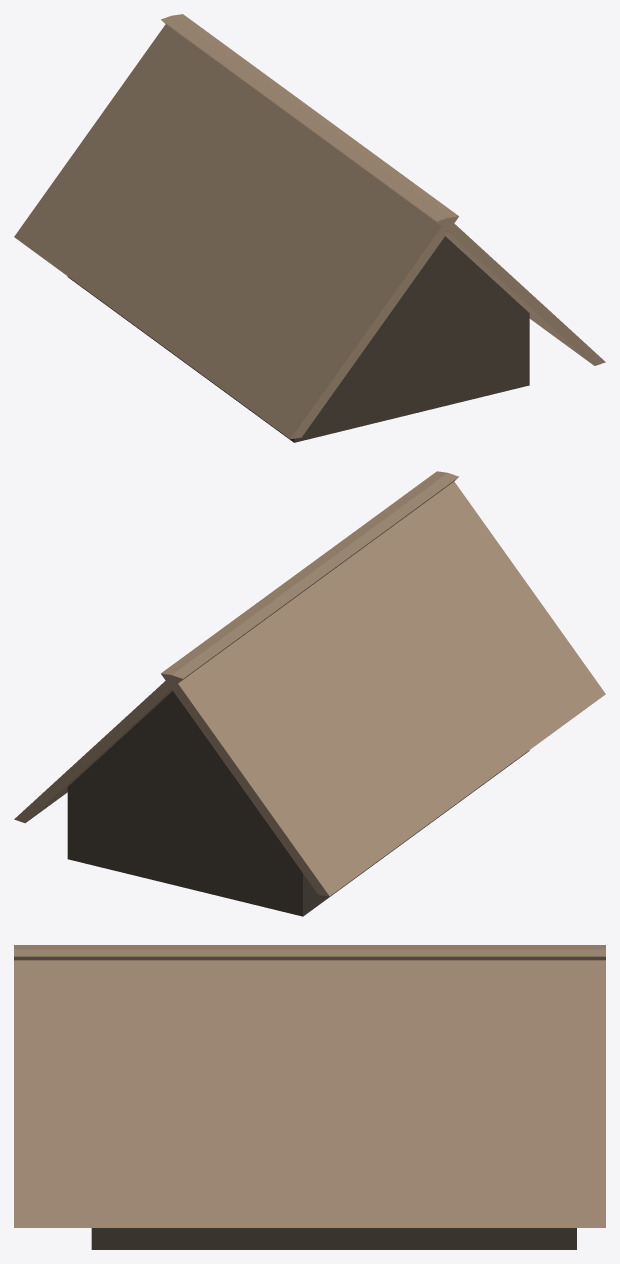
Rendered from CelticHouseModel.glb.
The picture shows the model from 3 angles, top to bottom: view 1: azimuth 30°, elevation 25°; view 2: azimuth 150°, elevation 25°; view 3: azimuth 270°, elevation 25°; orthographic projection. The views are drawn at different scales.
Visible parts, largest first — view 1: House; view 2: House; view 3: House.
Boxes of the visible parts, x1,y1,x2,y2 form: House: [14, 14, 605, 442]; House: [14, 471, 605, 916]; House: [14, 945, 605, 1249].
Size of the model in its own units: 8.05 by 5.43 by 12.2.
